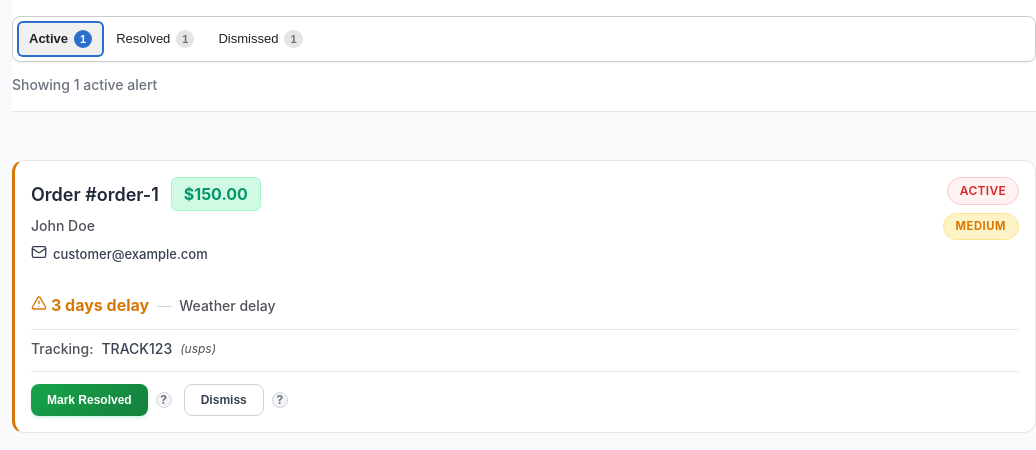
Scenario: AlertsTab Component › Edge Cases › should handle single alert in each status
The width and height of the screenshot is (1036, 450).
Expected: the text "Showing 1 active alert" is shown, x1=12 y1=76 x2=157 y2=93
Check Resolved (singular)
Click the text "Resolved": coordinates (143, 39) x1=116 y1=29 x2=170 y2=49
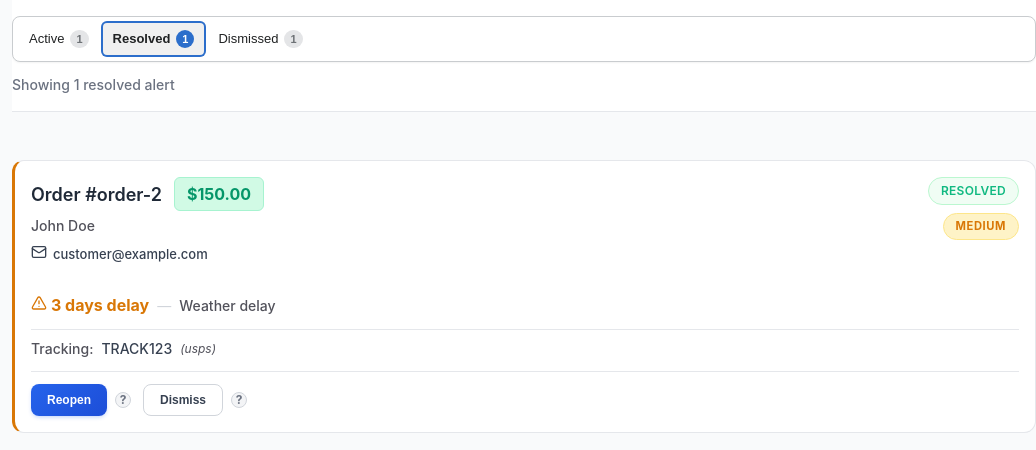
Expected: the text "Showing 1 resolved alert" is shown, x1=12 y1=76 x2=175 y2=93
Check Dismissed (singular)
Click the text "Dismissed": coordinates (248, 39) x1=218 y1=29 x2=278 y2=49
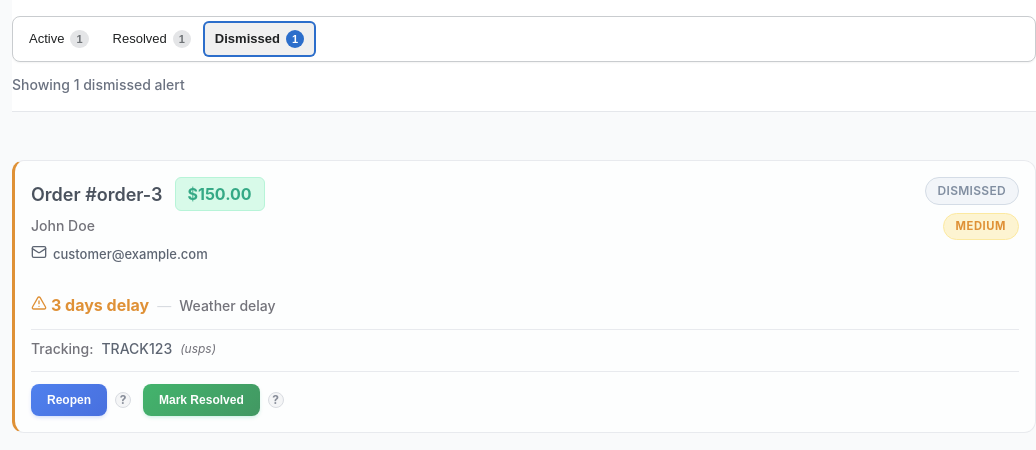
Expected: the text "Showing 1 dismissed alert" is shown, x1=12 y1=76 x2=185 y2=93
